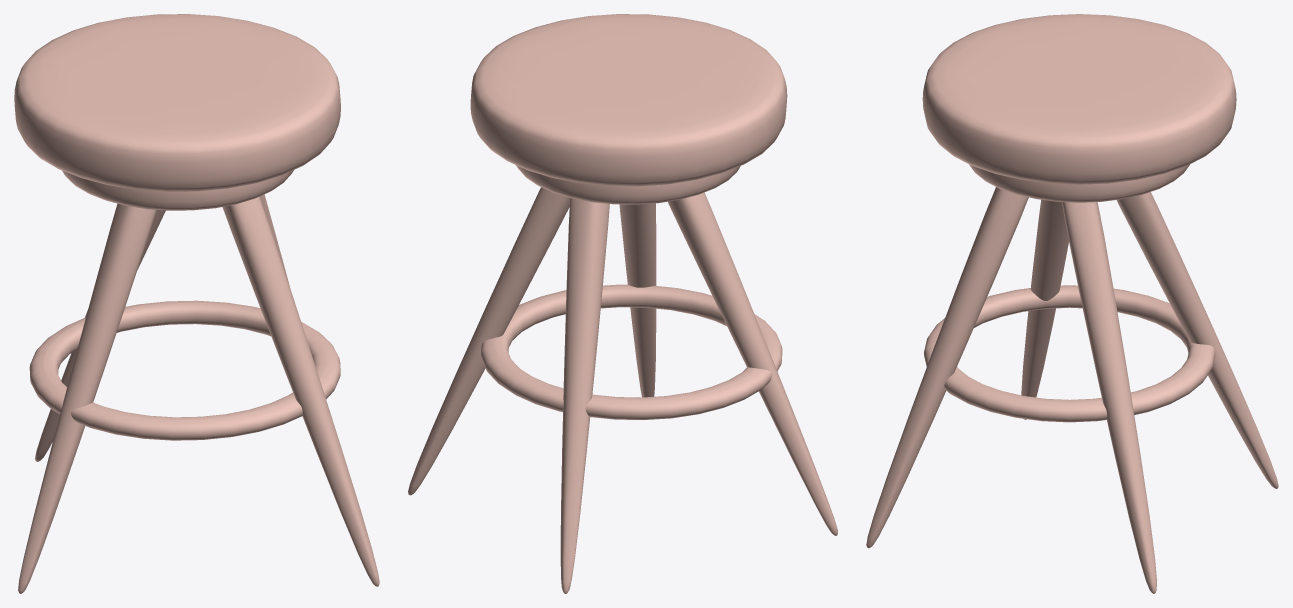
The model's file is table  grass.fbx.
3 views of the same model, side by side, from view 1: azimuth 30°, elevation 25°; view 2: azimuth 150°, elevation 25°; view 3: azimuth 270°, elevation 25° (orthographic). The views are drawn at different scales.
Visible parts, largest first — view 1: TABLE, Cylinder.003, Cube.010, Cube.013, Cylinder.002, Cube.012; view 2: TABLE, Cylinder.003, Cube.012, Cube.013, Cube.011, Cube.010, Cylinder.002; view 3: TABLE, Cube.011, Cylinder.003, Cube.010, Cube.012, Cube.013, Cylinder.002.
Part boxes in pixels (bbox=[...]): TABLE: bbox=[14, 14, 340, 191]; Cylinder.003: bbox=[29, 300, 340, 440]; Cube.010: bbox=[222, 196, 379, 586]; Cube.013: bbox=[18, 203, 156, 593]; Cylinder.002: bbox=[62, 170, 293, 210]; Cube.012: bbox=[35, 210, 165, 461]; TABLE: bbox=[470, 14, 787, 186]; Cylinder.003: bbox=[481, 284, 782, 419]; Cube.012: bbox=[560, 198, 609, 593]; Cube.013: bbox=[668, 192, 837, 535]; Cube.011: bbox=[408, 187, 569, 495]; Cube.010: bbox=[619, 203, 656, 397]; Cylinder.002: bbox=[516, 165, 740, 204]; TABLE: bbox=[922, 14, 1236, 184]; Cube.011: bbox=[1061, 202, 1156, 593]; Cylinder.003: bbox=[924, 285, 1215, 422]; Cube.010: bbox=[866, 187, 1028, 548]; Cube.012: bbox=[1116, 192, 1278, 488]; Cube.013: bbox=[1021, 199, 1068, 419]; Cylinder.002: bbox=[969, 164, 1189, 202].
Size of the model in its own units: 0.7149 by 0.821 by 0.7081.
